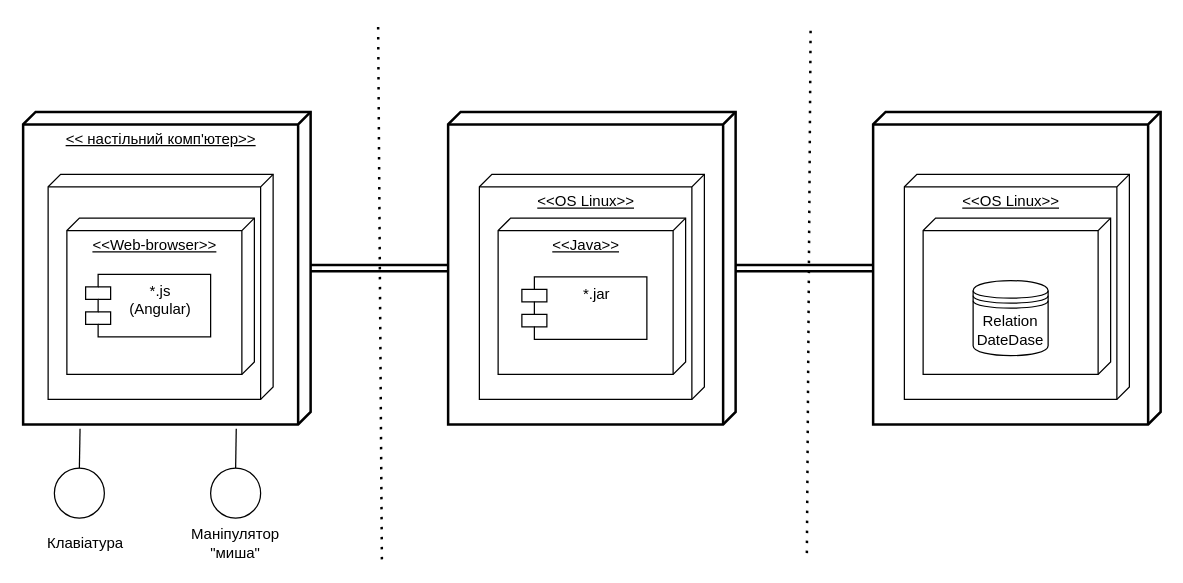
This 1183x583 diagram has some shape labels left out. Here are the shapes that lost their labels. From the top down, the box of each, then its label:
(47, 173, 273, 399): <<ОS Windows, OS Linux>>
(446, 110, 736, 425): << Сервер 1>>
(871, 110, 1161, 425): << Сервер 2>>
(922, 217, 1111, 374): <<Database Server PosqreSQL>>
